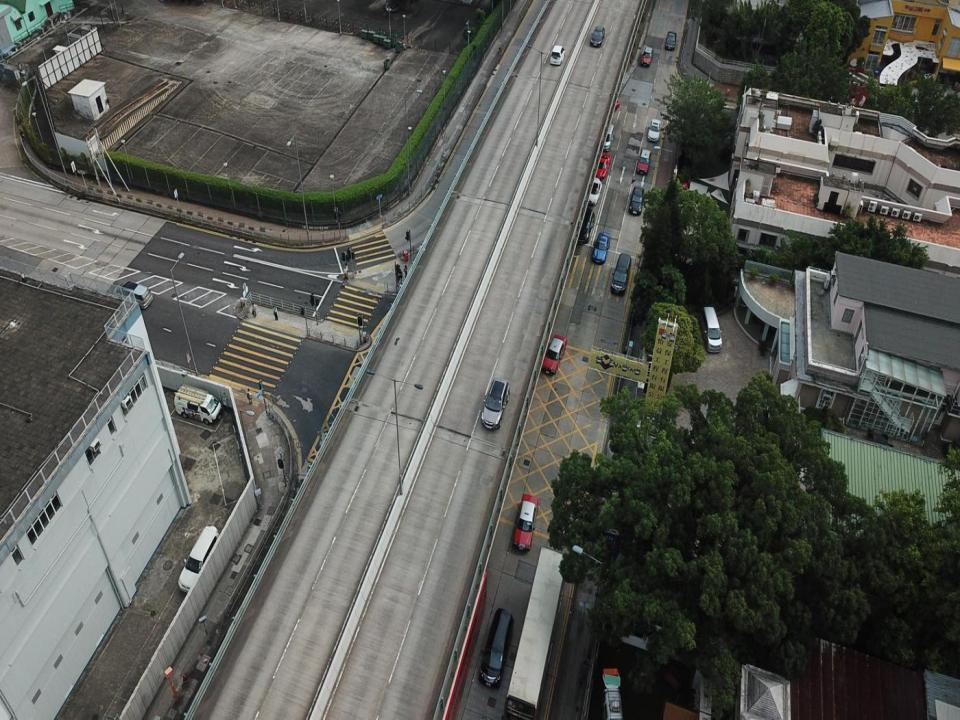bus: (504, 546, 564, 719)
car: (513, 493, 541, 553), (482, 380, 510, 429), (541, 334, 568, 374), (591, 231, 610, 264), (628, 186, 644, 216), (586, 176, 602, 204), (637, 148, 651, 176), (646, 118, 662, 140), (590, 24, 605, 46), (594, 154, 610, 174), (550, 46, 566, 64), (641, 46, 654, 66), (665, 31, 677, 52)
van: (177, 524, 218, 593), (479, 609, 514, 688), (175, 386, 223, 426), (699, 304, 724, 355), (114, 281, 154, 310), (611, 254, 632, 292), (576, 210, 594, 244), (600, 123, 613, 151)
